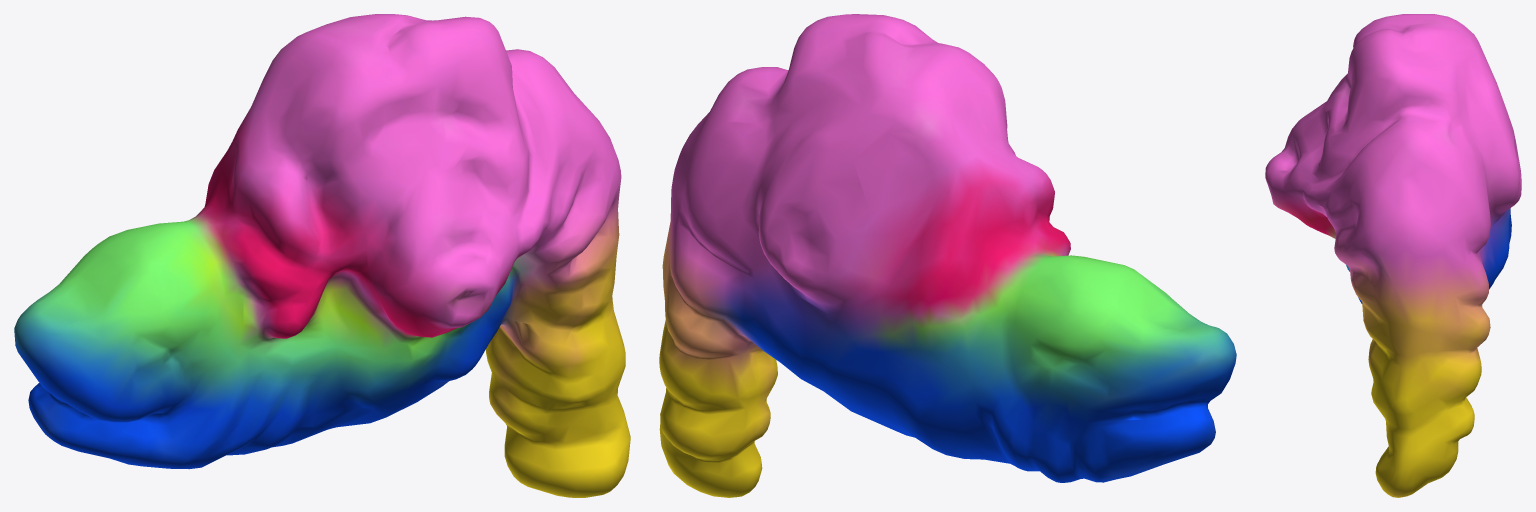
The model's file is 01_1_matte.glb.
3 views of the same model, side by side, from view 1: azimuth 30°, elevation 25°; view 2: azimuth 150°, elevation 25°; view 3: azimuth 270°, elevation 25° (orthographic). The views are drawn at different scales.
Parts seen in each view (by area): view 1: Group38483; view 2: Group38483; view 3: Group38483.
Boxes of the visible parts, x1,y1,x2,y2 form: Group38483: [14, 14, 630, 497]; Group38483: [659, 14, 1236, 497]; Group38483: [1265, 14, 1521, 497].
Bounding box in the file's own units: 0.00769 × 0.00637 × 0.00374.
Materials: 1 (1 with a texture image).
